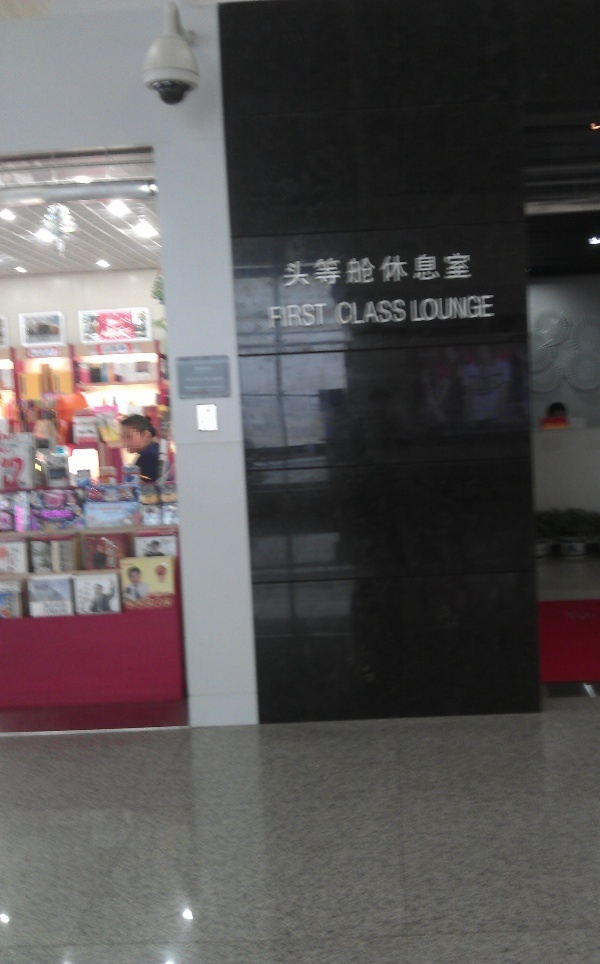text: (289, 250, 304, 290), (305, 250, 320, 290), (321, 250, 336, 290), (337, 250, 352, 290), (353, 250, 368, 290), (369, 250, 384, 290), (385, 250, 400, 290), (401, 250, 416, 290), (417, 250, 432, 290), (433, 250, 448, 290), (449, 250, 464, 290), (417, 293, 432, 323), (433, 293, 448, 323), (449, 293, 464, 323), (465, 293, 480, 323), (277, 250, 288, 290), (465, 250, 476, 290), (273, 301, 288, 330), (289, 301, 304, 330), (305, 301, 320, 330), (481, 293, 495, 323), (337, 300, 352, 326), (353, 300, 368, 326), (369, 300, 384, 326), (385, 300, 400, 326), (321, 301, 329, 330), (401, 300, 409, 326), (410, 293, 416, 323), (269, 301, 272, 330), (335, 300, 336, 326)
